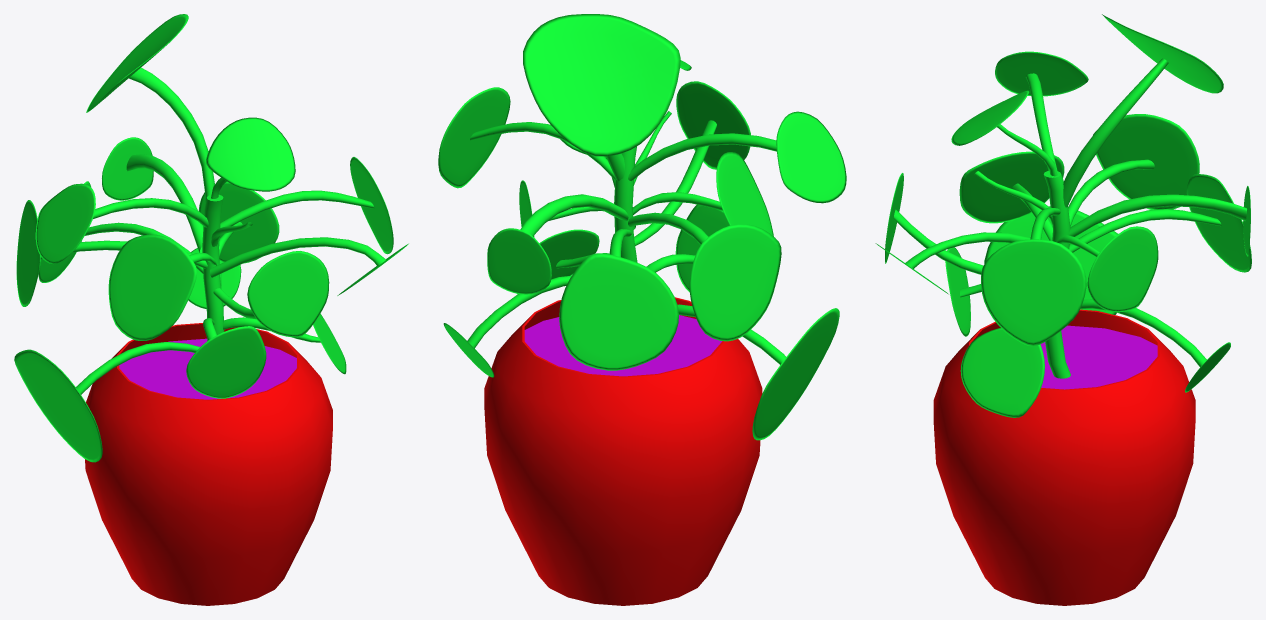
File: Little Plant In Pot Style2.fbx
3 views of the same model, side by side, from view 1: azimuth 30°, elevation 25°; view 2: azimuth 150°, elevation 25°; view 3: azimuth 270°, elevation 25° (orthographic). The views are drawn at different scales.
Visible parts, largest first — view 1: Pilea; view 2: Pilea; view 3: Pilea.
Boxes of the visible parts, x1,y1,x2,y2 form: Pilea: (14, 14, 408, 605); Pilea: (438, 14, 846, 605); Pilea: (875, 14, 1251, 605).
Bounding box in the file's own units: 34.86 × 51.25 × 32.02.
